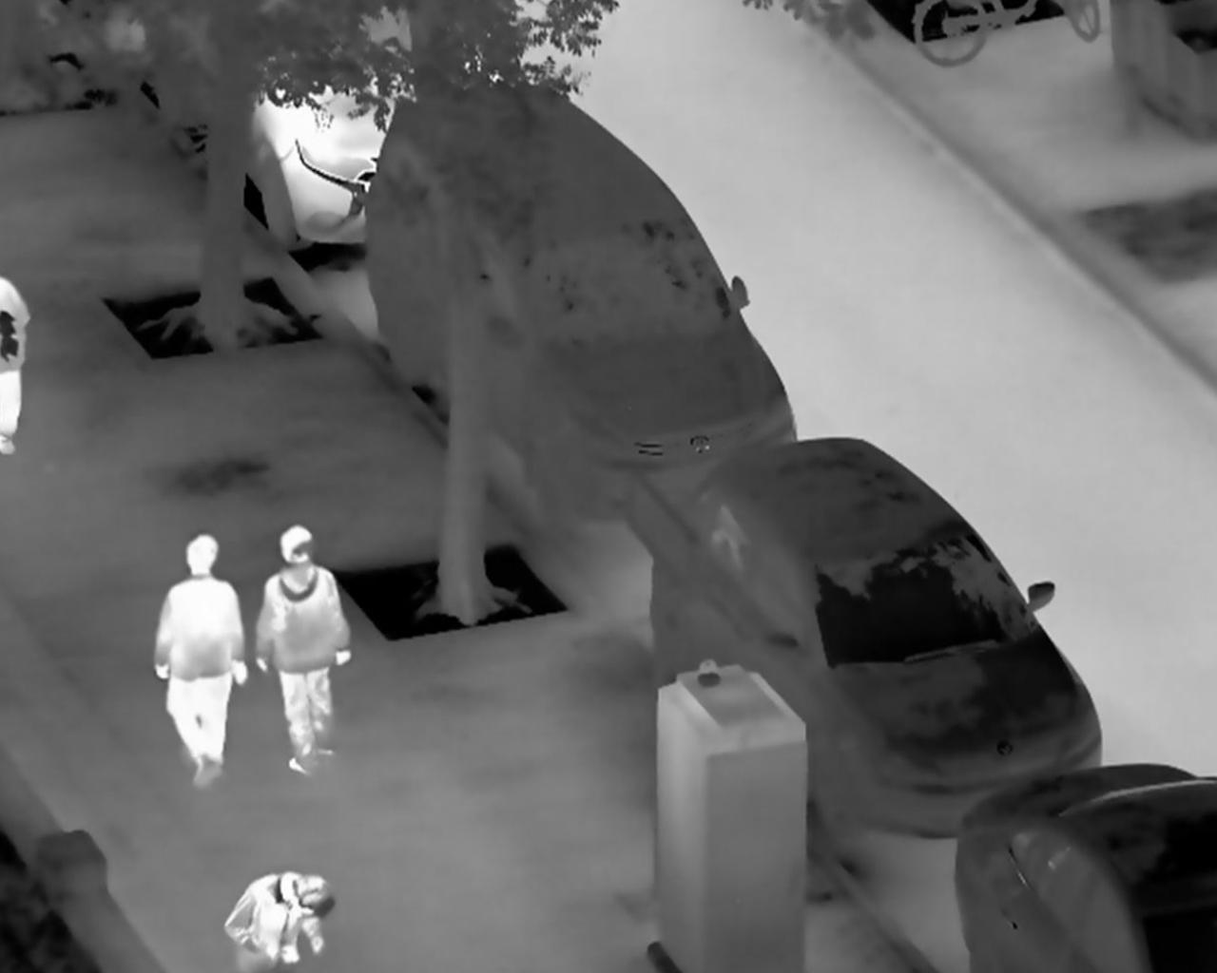person: (253, 523, 352, 776), (152, 532, 248, 788), (223, 870, 336, 973)
